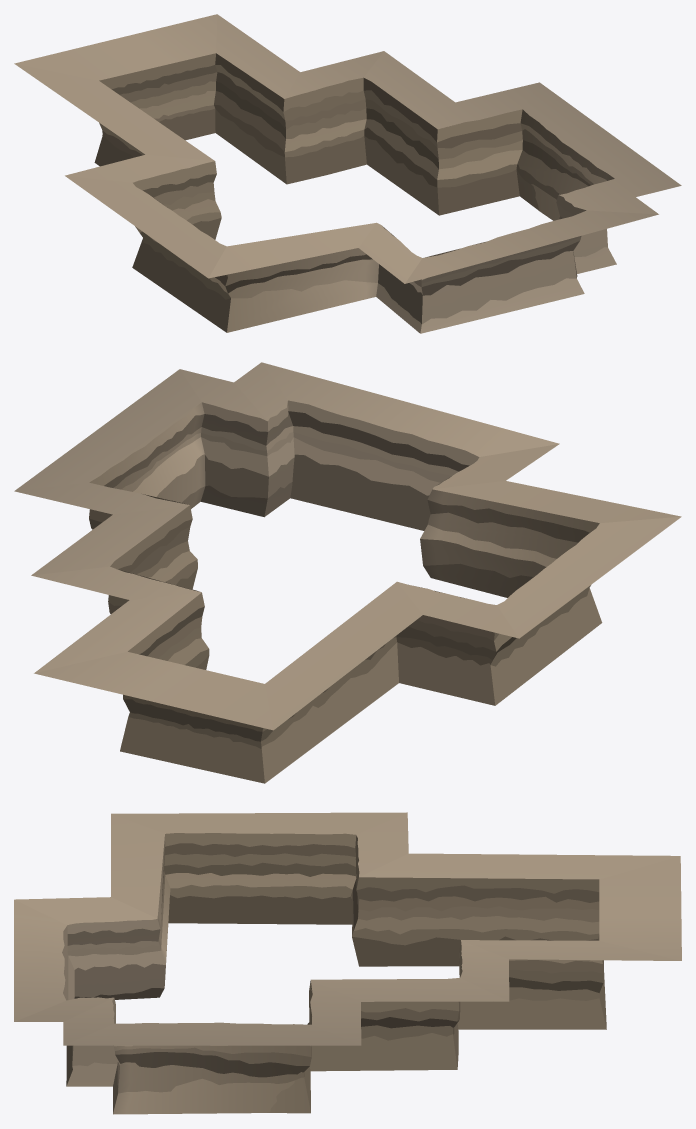
Rendered from Carreer.fbx.
3 views of the same model, one above another, from view 1: azimuth 30°, elevation 25°; view 2: azimuth 150°, elevation 25°; view 3: azimuth 270°, elevation 25° (orthographic). The views are drawn at different scales.
Parts seen in each view (by area): view 1: Cube.004; view 2: Cube.004; view 3: Cube.004.
Boxes of the visible parts, x1,y1,x2,y2 form: Cube.004: (14,14,681,333); Cube.004: (14,362,681,783); Cube.004: (14,812,681,1114).
Bounding box in the file's own units: 33.35 × 40.52 × 6.3.
1 material, 1 textured.
